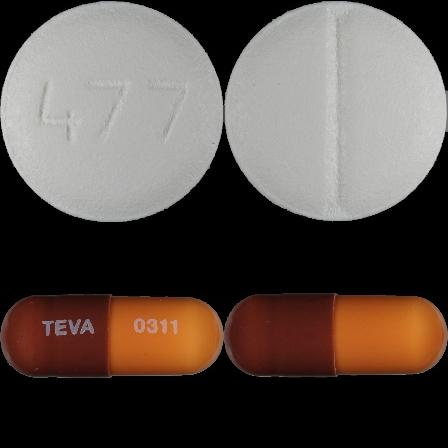51655-536: (0, 0, 224, 224)
